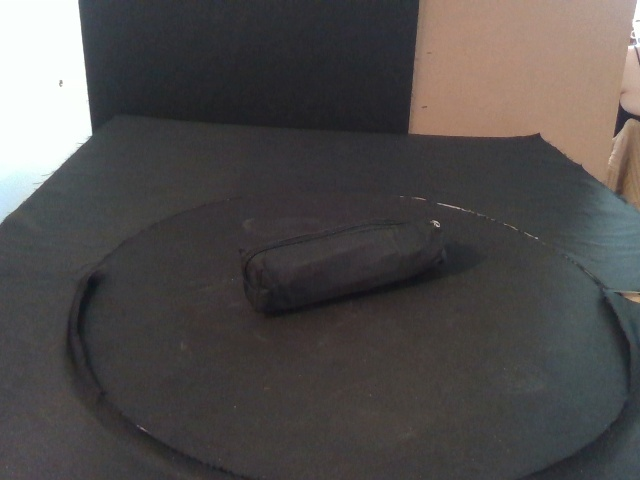pencil_case: (242, 219, 448, 316)
